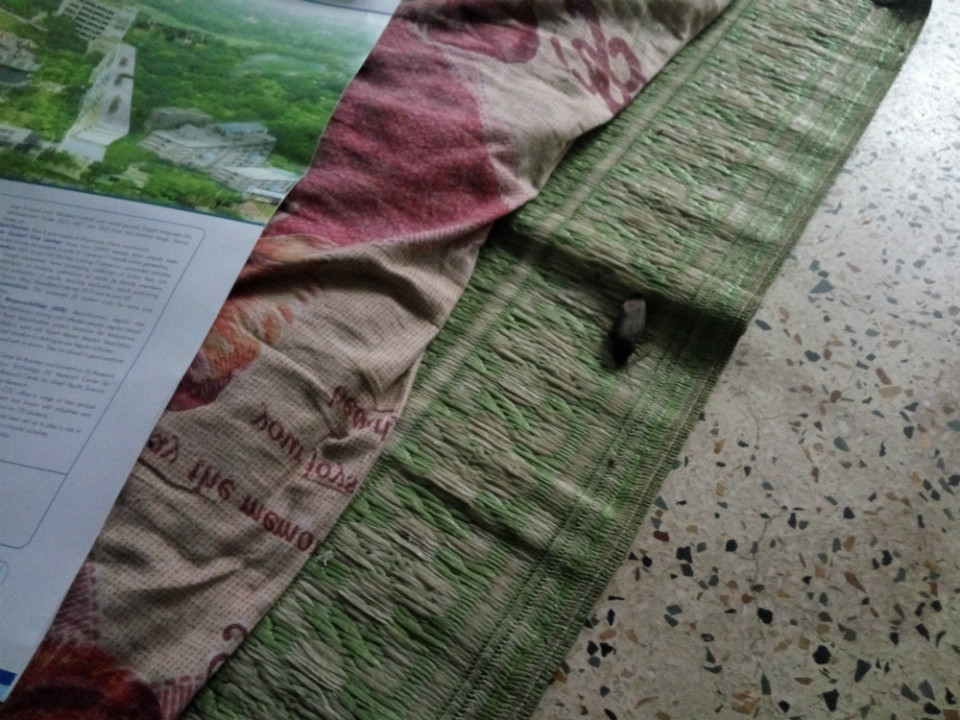cockroach: (591, 285, 689, 384)
